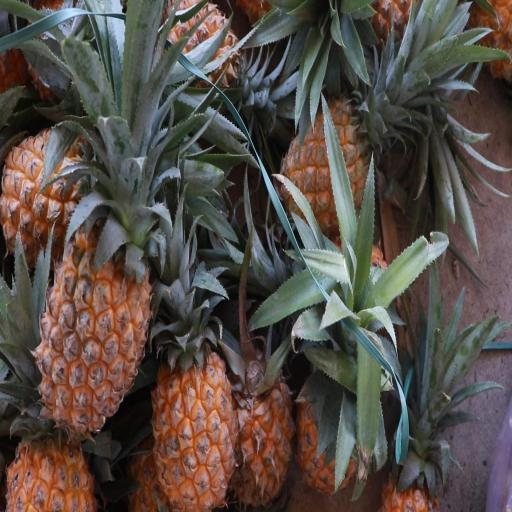Pineapple - v8 v1: (34, 197, 156, 440), (0, 118, 139, 268), (279, 94, 386, 248), (148, 343, 238, 512), (4, 366, 101, 512), (233, 336, 299, 512), (297, 360, 367, 500)
